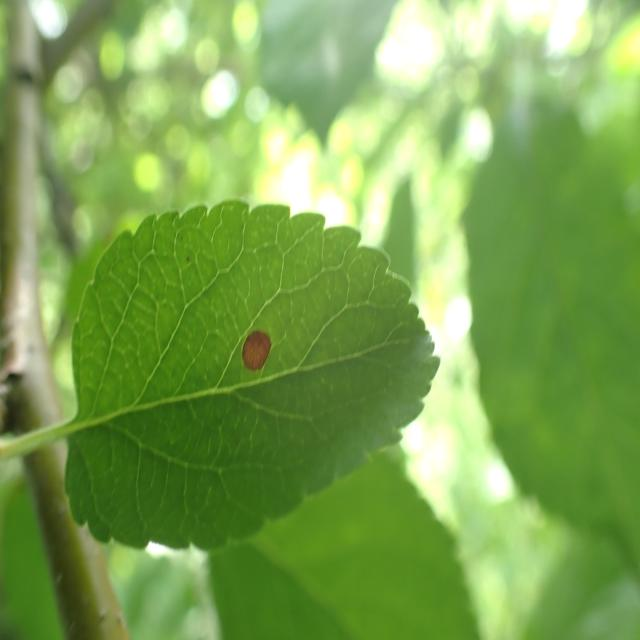Black Rot: (220, 320, 284, 392)
